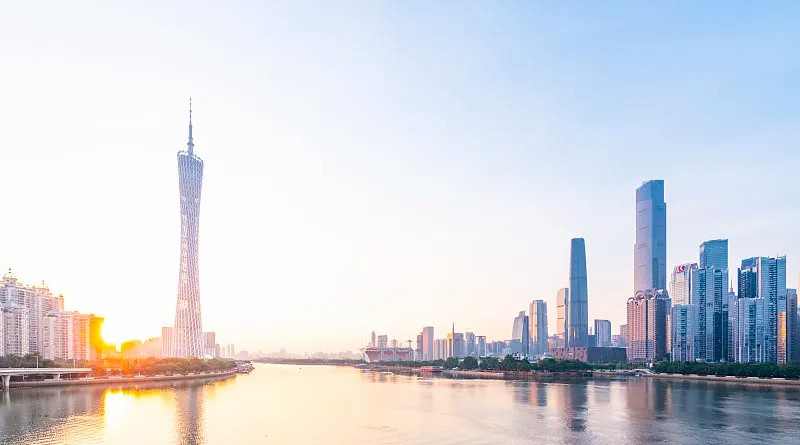Canton: (166, 97, 208, 360)
